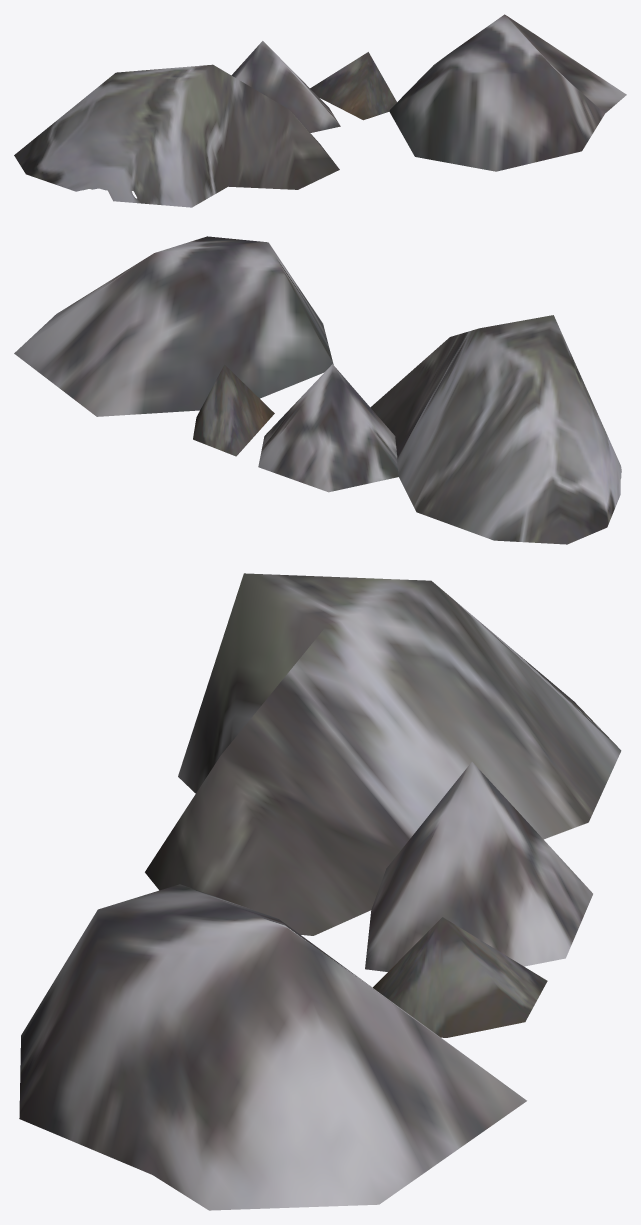
Rendered from rzjd_shitoushan_06.FBX.
The picture shows the model from 3 angles, top to bottom: view 1: azimuth 30°, elevation 25°; view 2: azimuth 150°, elevation 25°; view 3: azimuth 270°, elevation 25°; orthographic projection. The views are drawn at different scales.
Parts seen in each view (by area): view 1: rzjd_shitoushan_06; view 2: rzjd_shitoushan_06; view 3: rzjd_shitoushan_06.
Part boxes in pixels (x1,y1,x2,y2): rzjd_shitoushan_06: (14, 14, 626, 207); rzjd_shitoushan_06: (14, 236, 621, 544); rzjd_shitoushan_06: (19, 573, 621, 1210).
Size of the model in its own units: 32.98 by 16.15 by 6.54.
